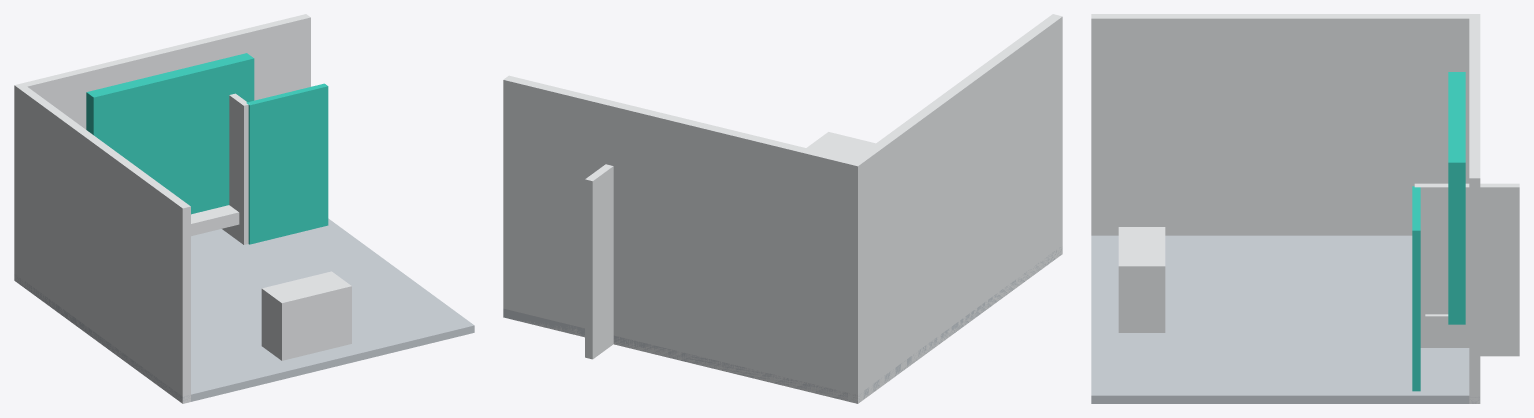
3 renders of one model, left to right at view 1: azimuth 30°, elevation 25°; view 2: azimuth 150°, elevation 25°; view 3: azimuth 270°, elevation 25°, orthographic. The views are drawn at different scales.
Visible parts, largest first — view 1: Exhibition Booth Concept; view 2: Exhibition Booth Concept; view 3: Exhibition Booth Concept.
Boxes of the visible parts, bbox=[...] form: Exhibition Booth Concept: bbox=[14, 14, 474, 403]; Exhibition Booth Concept: bbox=[503, 14, 1062, 403]; Exhibition Booth Concept: bbox=[1091, 14, 1519, 403].
Size of the model in its own units: 5 by 3.2 by 5.51.
